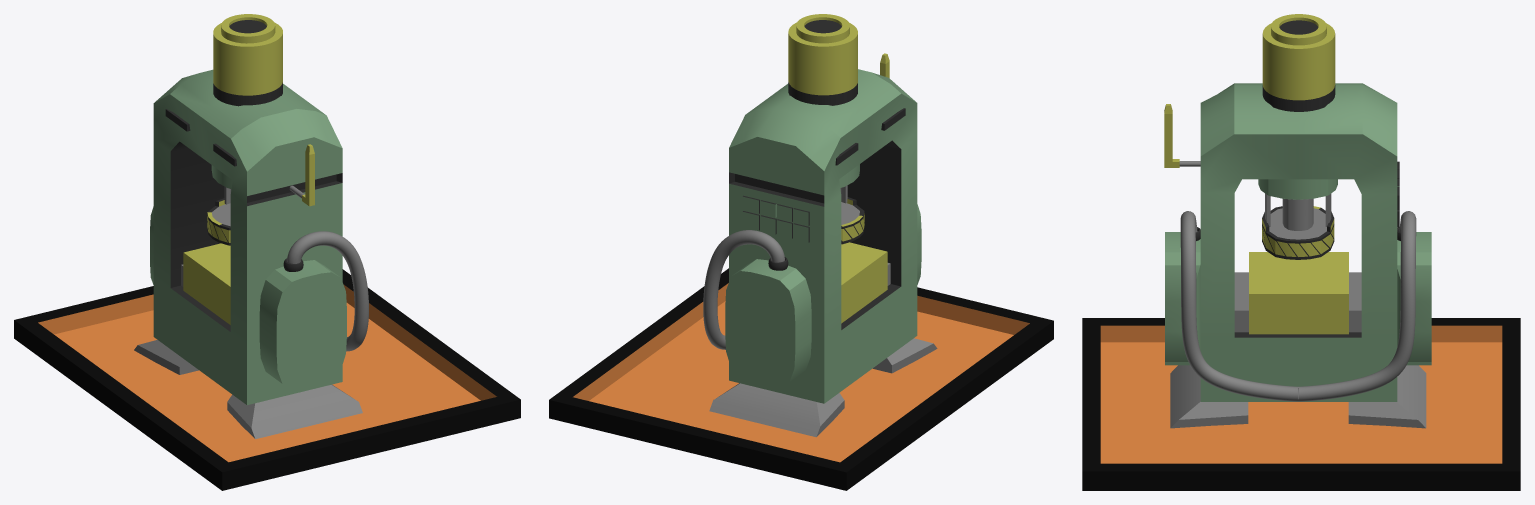
Rendered from SurfaceArea_HydraulicPress.fbx.
3 renders of one model, left to right at view 1: azimuth 30°, elevation 25°; view 2: azimuth 150°, elevation 25°; view 3: azimuth 270°, elevation 25°, orthographic. The views are drawn at different scales.
Visible parts, largest first — view 1: HydraulicPress, Cube.309, Cube.313, Cylinder.310, Cube.314, Cube.311, NurbsPath.005, Cube.310, Cube.316; view 2: HydraulicPress, Cube.309, Cube.313, Cylinder.310, Cube.314, Cube.311, NurbsPath.005, Cube.317, Cube.310; view 3: HydraulicPress, Cube.309, NurbsPath.005, Cube.311, Cylinder.310, Cube.314, Cube.313, Cube.310, Cube.312, Cube.316.
Boxes of the visible parts, x1,y1,x2,y2 form: HydraulicPress: [14, 269, 520, 490]; Cube.309: [153, 69, 342, 405]; Cube.313: [150, 206, 346, 389]; Cylinder.310: [213, 14, 282, 106]; Cube.314: [134, 340, 362, 439]; Cube.311: [183, 243, 230, 324]; NurbsPath.005: [287, 231, 368, 351]; Cube.310: [207, 186, 231, 245]; Cube.316: [302, 144, 314, 206]; HydraulicPress: [549, 268, 1053, 490]; Cube.309: [729, 69, 917, 403]; Cube.313: [725, 204, 921, 387]; Cylinder.310: [788, 14, 857, 105]; Cube.314: [709, 338, 937, 437]; Cube.311: [841, 242, 887, 323]; NurbsPath.005: [703, 230, 784, 349]; Cube.317: [742, 195, 809, 242]; Cube.310: [840, 185, 864, 244]; HydraulicPress: [1082, 318, 1520, 490]; Cube.309: [1200, 83, 1397, 401]; NurbsPath.005: [1180, 211, 1416, 401]; Cube.311: [1249, 252, 1348, 334]; Cylinder.310: [1262, 14, 1335, 111]; Cube.314: [1170, 365, 1426, 428]; Cube.313: [1165, 232, 1431, 365]; Cube.310: [1262, 193, 1334, 259]; Cube.312: [1234, 272, 1361, 332]; Cube.316: [1164, 104, 1179, 167].
Bounding box in the file's own units: 2.61 × 3.15 × 3.07.
